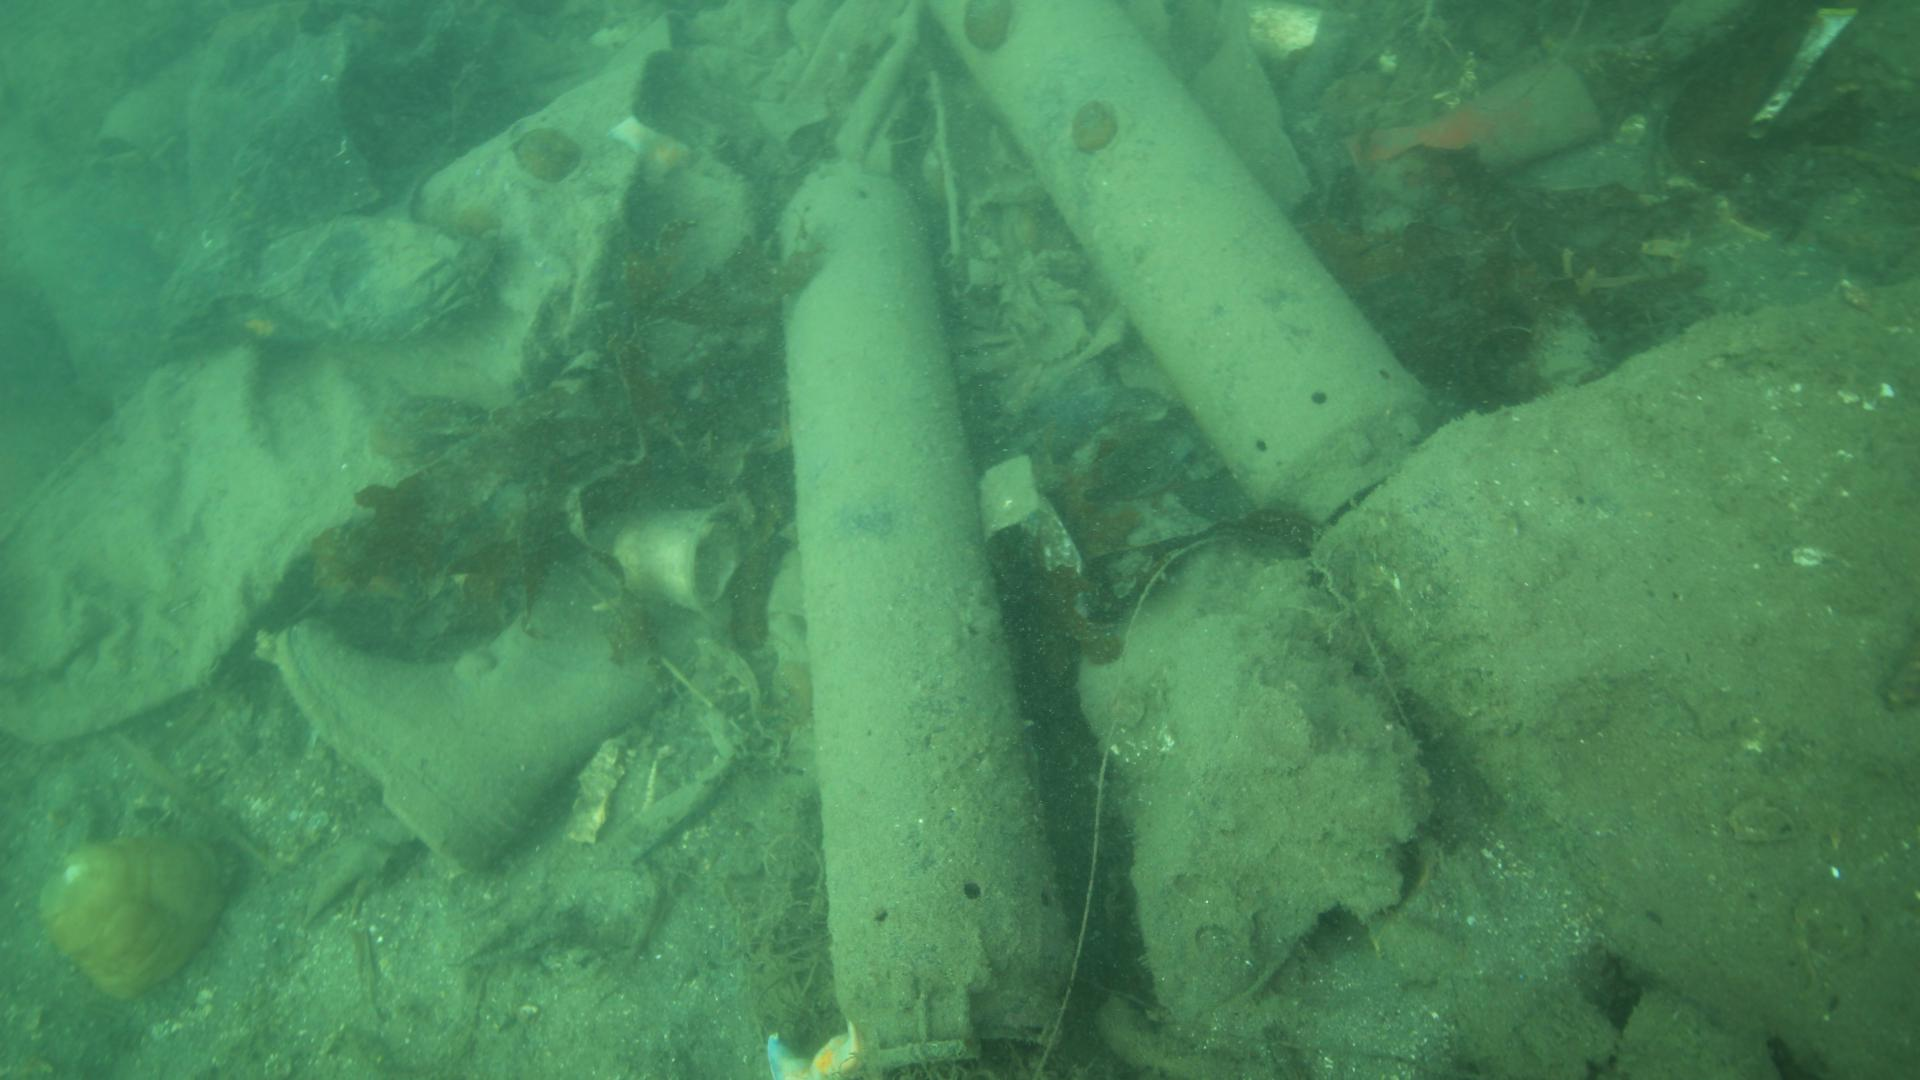eel fish trap: (773, 160, 1081, 1080), (935, 0, 1440, 526)
